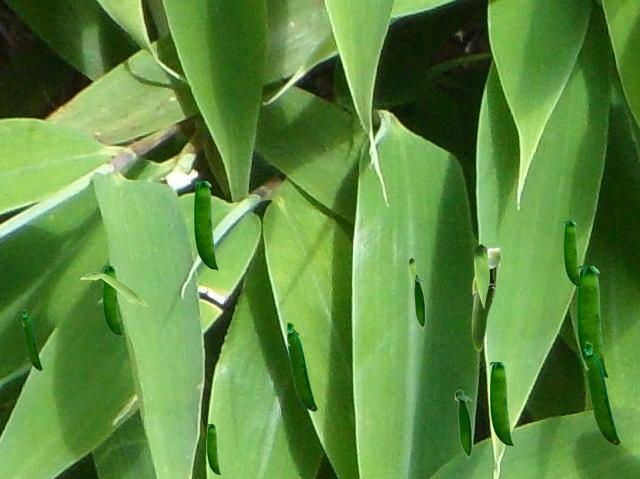pea: (584, 341, 619, 444), (577, 266, 607, 378), (471, 247, 501, 350), (286, 321, 316, 410), (194, 181, 217, 270), (490, 362, 512, 446), (103, 266, 121, 335), (454, 389, 471, 458), (22, 309, 41, 369), (564, 221, 580, 286), (413, 273, 424, 328), (207, 424, 219, 474)
